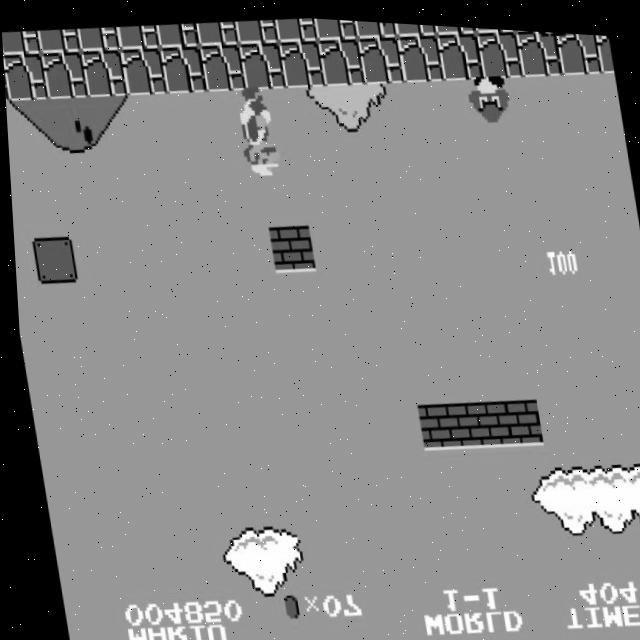1- brick_block: (265, 219, 313, 272), (451, 393, 499, 444), (412, 396, 459, 447), (491, 391, 538, 442)
17- undestructible_block: (118, 43, 167, 96), (237, 36, 286, 89), (197, 39, 246, 91), (316, 32, 365, 84), (395, 27, 444, 79), (435, 25, 484, 77), (39, 48, 87, 100), (79, 46, 127, 98), (158, 41, 206, 93), (277, 34, 325, 86), (356, 30, 404, 82), (475, 23, 523, 75), (2, 50, 48, 102), (514, 24, 562, 72), (554, 26, 602, 70), (194, 17, 239, 46), (36, 26, 80, 55), (76, 23, 120, 52), (115, 21, 159, 50), (155, 19, 199, 48), (234, 14, 278, 43), (273, 13, 317, 41), (1, 28, 41, 57), (313, 15, 357, 38), (353, 16, 397, 35), (594, 28, 614, 66), (393, 18, 437, 33), (433, 20, 476, 31)
3- empty_block: (27, 233, 76, 285)
4- fire_mario: (227, 80, 284, 180)
8- goomba: (462, 66, 512, 122)
